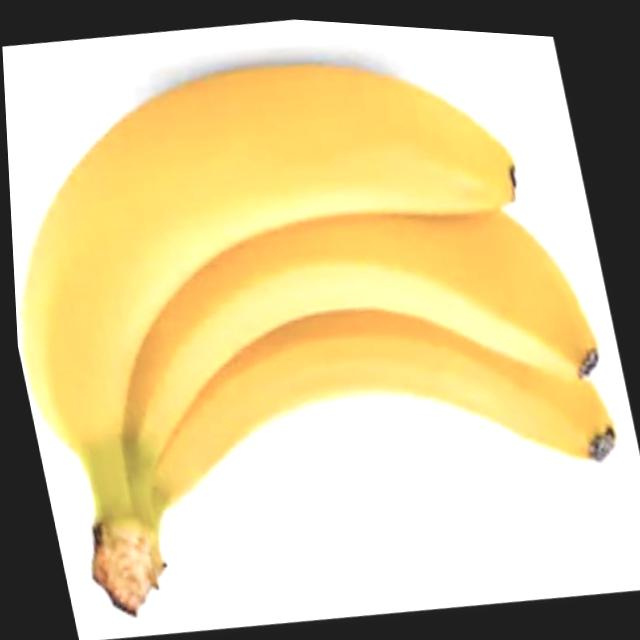Banana: (0, 4, 640, 640)
